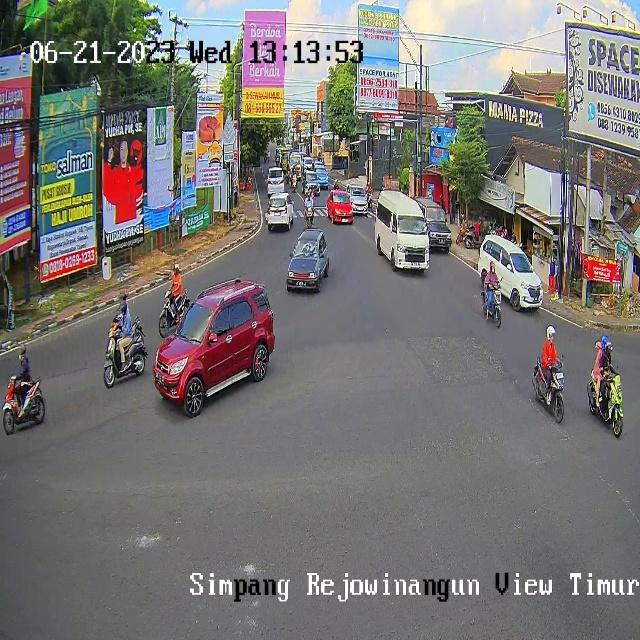bus: (2, 376, 46, 434), (587, 368, 622, 438), (104, 333, 146, 388), (534, 356, 564, 422), (159, 288, 191, 338), (482, 276, 502, 326), (109, 314, 140, 338), (305, 206, 315, 228), (293, 178, 297, 188)
car: (374, 190, 430, 270)
motorcycle: (154, 280, 276, 418), (478, 234, 544, 311), (287, 229, 329, 293), (413, 198, 452, 254), (267, 192, 294, 231), (326, 190, 355, 224), (346, 184, 369, 214), (267, 166, 285, 194), (302, 171, 321, 195), (315, 167, 329, 189)
